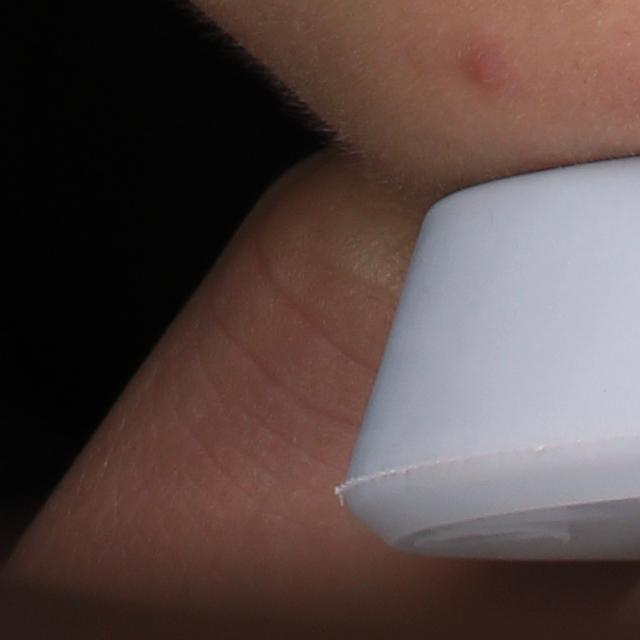papule: (457, 45, 509, 94)
